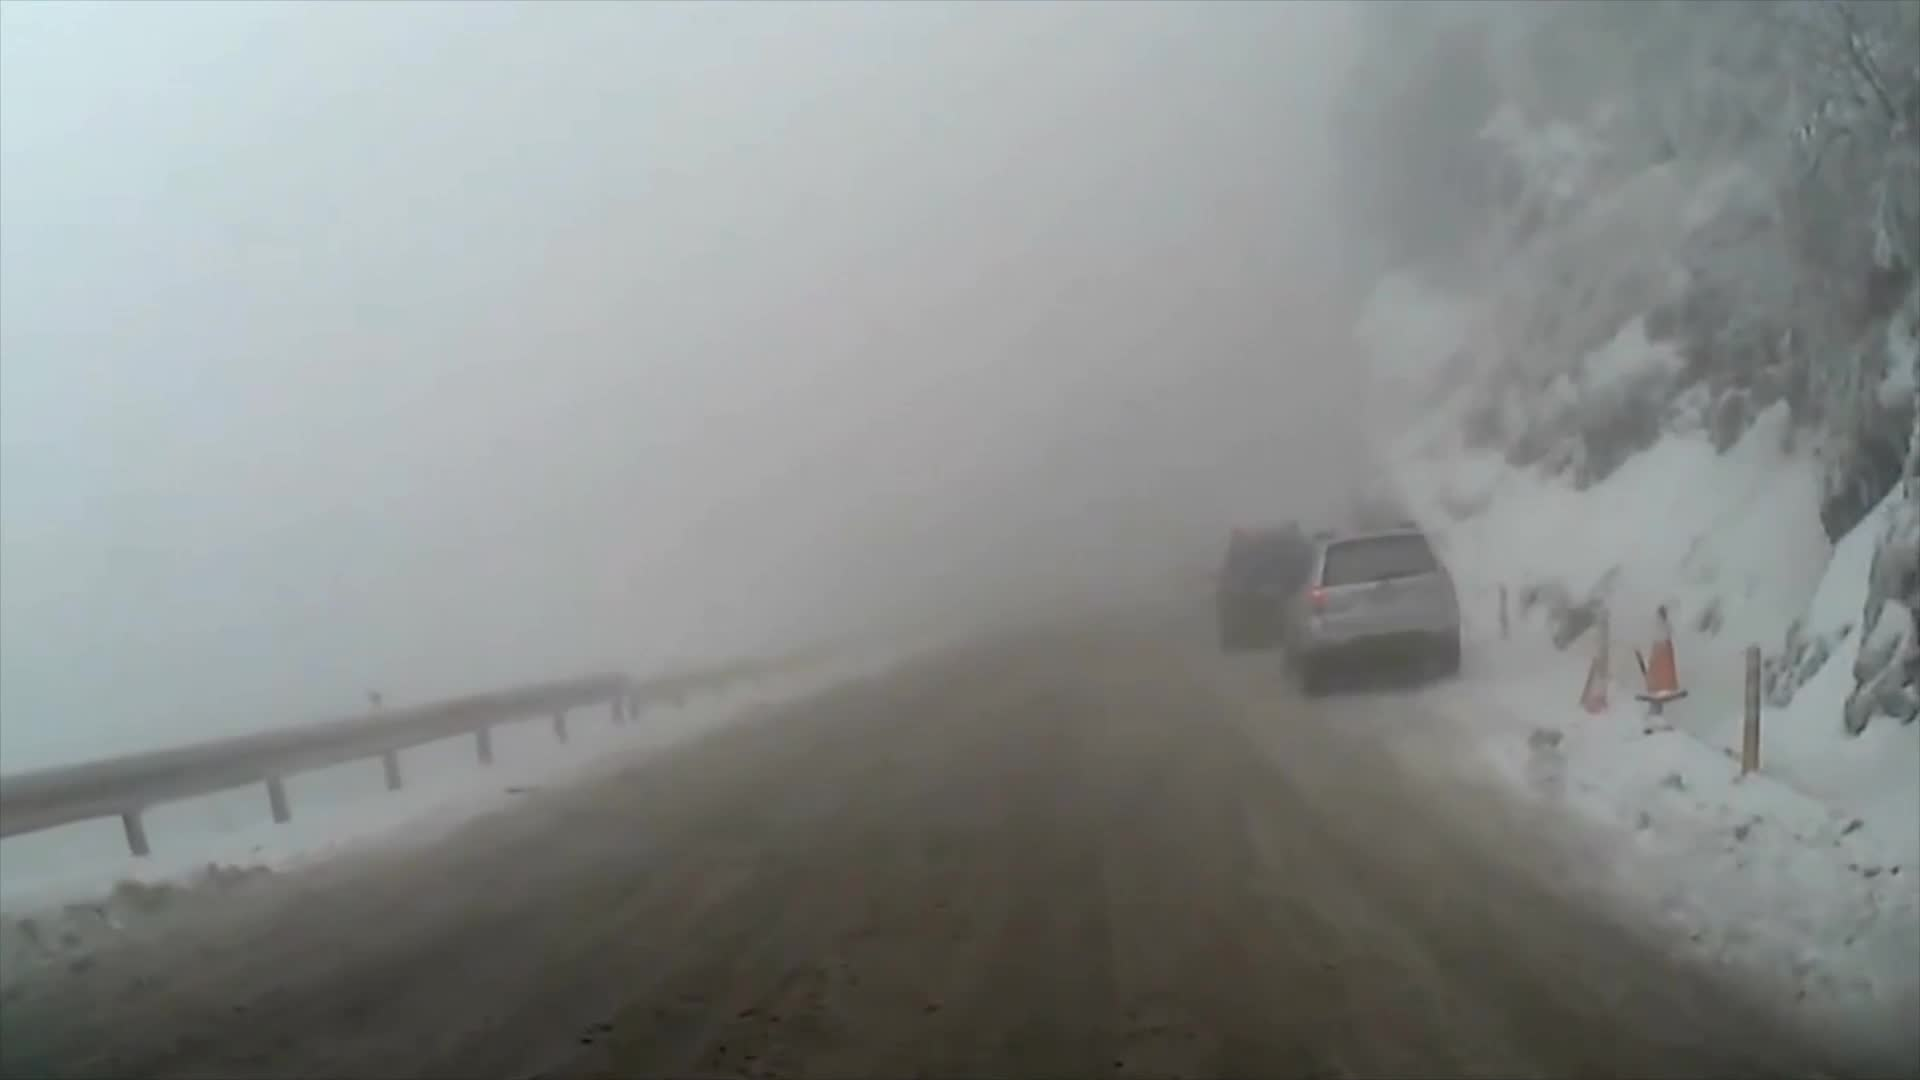vehicle: (1276, 520, 1458, 700), (1207, 531, 1335, 671)
